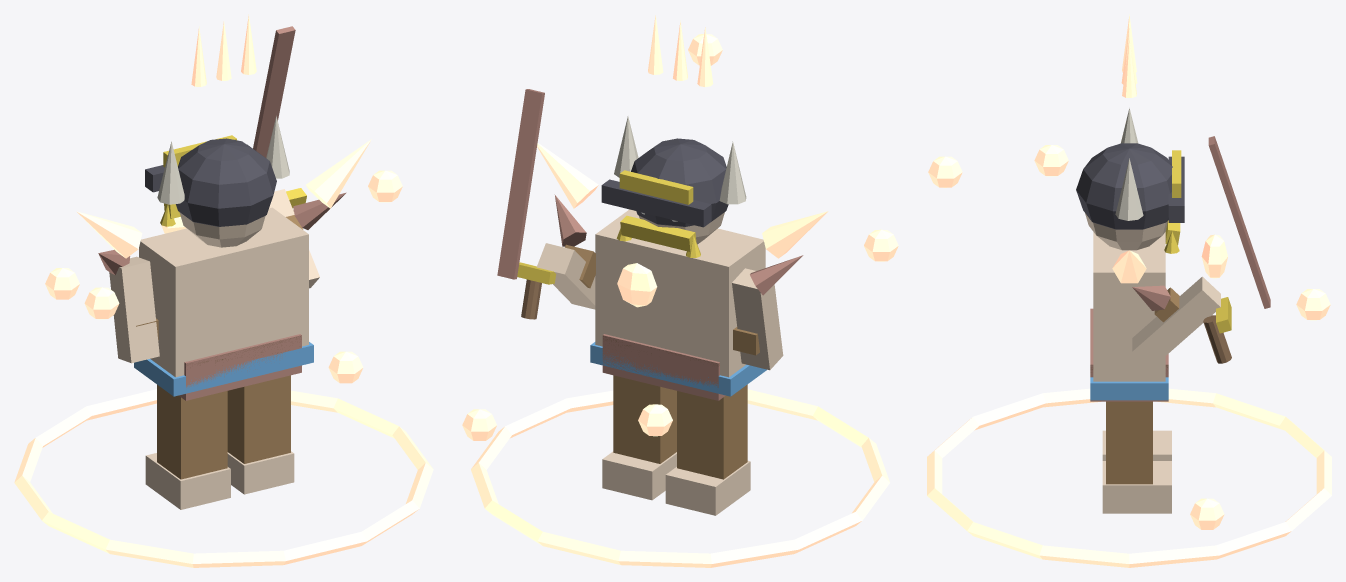
The model's file is evolved_elite_barbarians.glb.
3 views of the same model, side by side, from view 1: azimuth 30°, elevation 25°; view 2: azimuth 150°, elevation 25°; view 3: azimuth 270°, elevation 25° (orthographic).
Parts seen in each view (by area): view 1: evolved_elite_barbarians; view 2: evolved_elite_barbarians; view 3: evolved_elite_barbarians.
Boxes of the visible parts, bbox=[...] form: evolved_elite_barbarians: bbox=[14, 14, 433, 567]; evolved_elite_barbarians: bbox=[462, 15, 898, 567]; evolved_elite_barbarians: bbox=[927, 14, 1331, 567].
Bounding box in the file's own units: 2.9 × 3.55 × 2.83.
